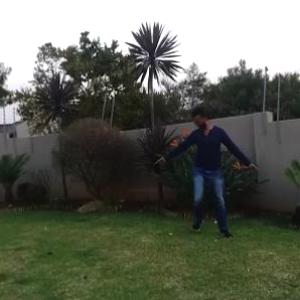land: (136, 98, 262, 252)
